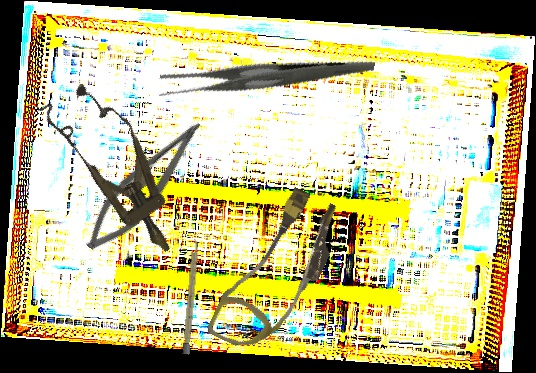Cannula: (205, 178, 350, 366)
Dressing Forceps: (155, 15, 376, 142)
Micro Scissor: (76, 107, 211, 263)
Scalpel Handle: (182, 238, 200, 355)
Speculum: (37, 72, 198, 270)
